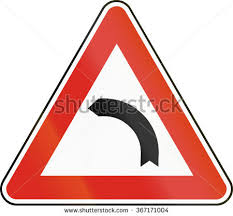Bend_to_left: (1, 1, 233, 206)
